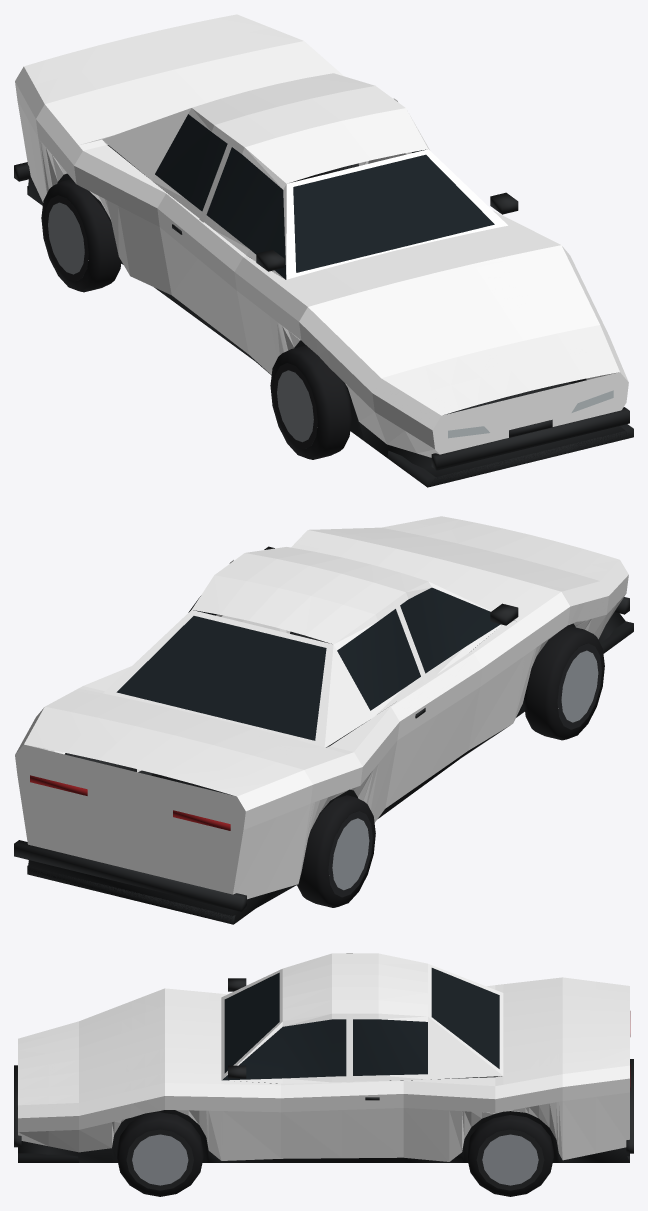
The model's file is hayase_cetro.glb.
The picture shows the model from 3 angles, top to bottom: view 1: azimuth 30°, elevation 25°; view 2: azimuth 150°, elevation 25°; view 3: azimuth 270°, elevation 25°; orthographic projection. The views are drawn at different scales.
Parts seen in each view (by area): view 1: Body_Paint, Body_Details, Mount_FrontLeft_Wheel_Details, Mount_RearLeft_Wheel_Details; view 2: Body_Paint, Body_Details, Mount_FrontLeft_Wheel_Details, Mount_RearLeft_Wheel_Details; view 3: Body_Paint, Body_Details, Mount_FrontRight_Wheel_Details, Mount_RearRight_Wheel_Details.
Part boxes in pixels (bbox=[...]): Body_Paint: bbox=[15, 14, 628, 457]; Body_Details: bbox=[14, 114, 633, 487]; Mount_FrontLeft_Wheel_Details: bbox=[270, 345, 351, 459]; Mount_RearLeft_Wheel_Details: bbox=[41, 179, 121, 292]; Body_Paint: bbox=[15, 516, 628, 899]; Body_Details: bbox=[14, 546, 633, 924]; Mount_FrontLeft_Wheel_Details: bbox=[523, 625, 604, 740]; Mount_RearLeft_Wheel_Details: bbox=[297, 795, 375, 907]; Body_Paint: bbox=[18, 953, 629, 1161]; Body_Details: bbox=[14, 968, 633, 1162]; Mount_FrontRight_Wheel_Details: bbox=[117, 1112, 203, 1196]; Mount_RearRight_Wheel_Details: bbox=[467, 1115, 553, 1196].
Size of the model in its own units: 1.79 by 1.28 by 4.36.
Materials: 2 (1 with a texture image).
